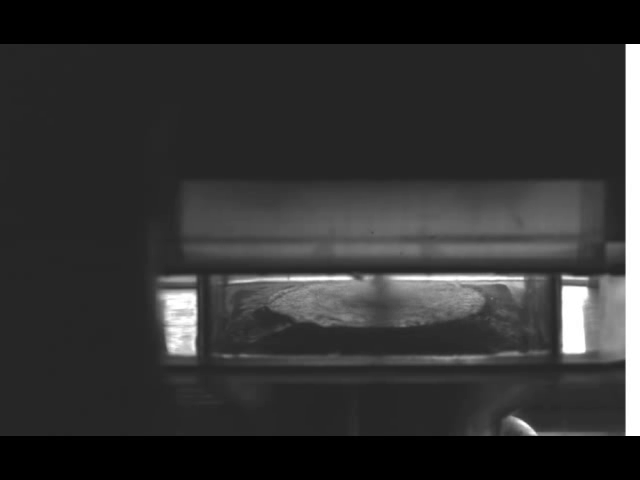Zona de teste: (265, 274, 491, 333)
